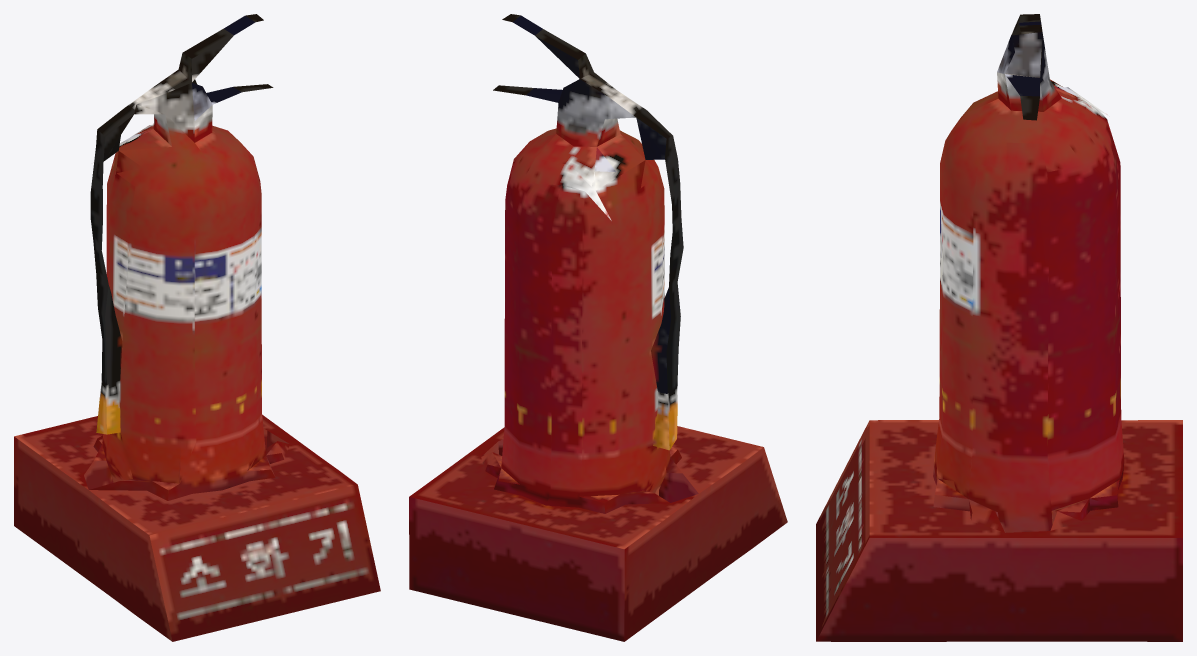
The model's file is korean_fire_extinguisher_01.glb.
3 views of the same model, side by side, from view 1: azimuth 30°, elevation 25°; view 2: azimuth 150°, elevation 25°; view 3: azimuth 270°, elevation 25° (orthographic). The views are drawn at different scales.
Parts seen in each view (by area): view 1: mesh; view 2: mesh; view 3: mesh.
Boxes of the visible parts, bbox=[...] form: mesh: bbox=[14, 14, 380, 641]; mesh: bbox=[409, 14, 787, 641]; mesh: bbox=[816, 14, 1182, 641].
Size of the model in its own units: 0.2806 by 0.6593 by 0.3683.
1 material, 1 textured.
